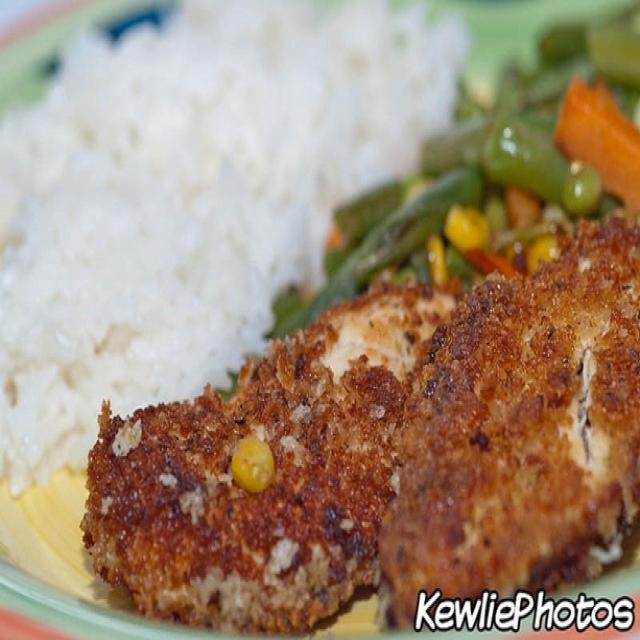鸡肉料理 含炸鸡: (33, 42, 628, 594)
